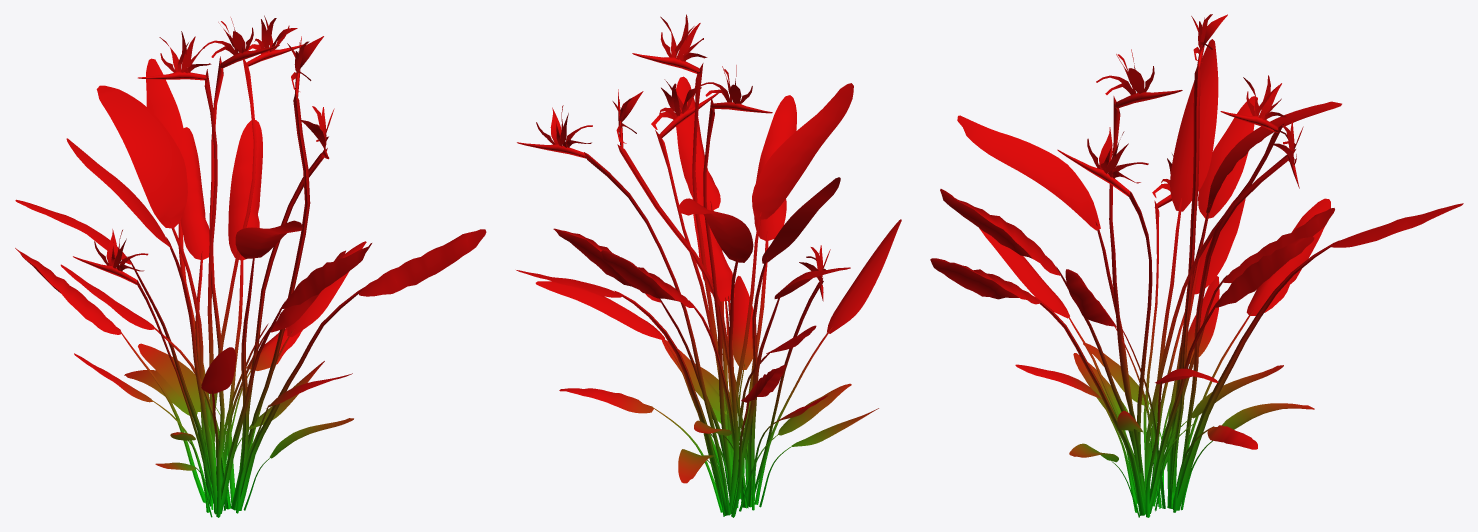
File: Bird Of Paradise_LOD3_Var7_wfypeifha.fbx
3 renders of one model, left to right at view 1: azimuth 30°, elevation 25°; view 2: azimuth 150°, elevation 25°; view 3: azimuth 270°, elevation 25°, orthographic. The views are drawn at different scales.
Visible parts, largest first — view 1: _zdrc_Var7_LOD3; view 2: _zdrc_Var7_LOD3; view 3: _zdrc_Var7_LOD3.
Boxes of the visible parts, <box> form: _zdrc_Var7_LOD3: <box>15,15,486,517</box>; _zdrc_Var7_LOD3: <box>516,14,901,517</box>; _zdrc_Var7_LOD3: <box>930,14,1463,517</box>.
Bounding box in the file's own units: 133 × 178 × 175.
